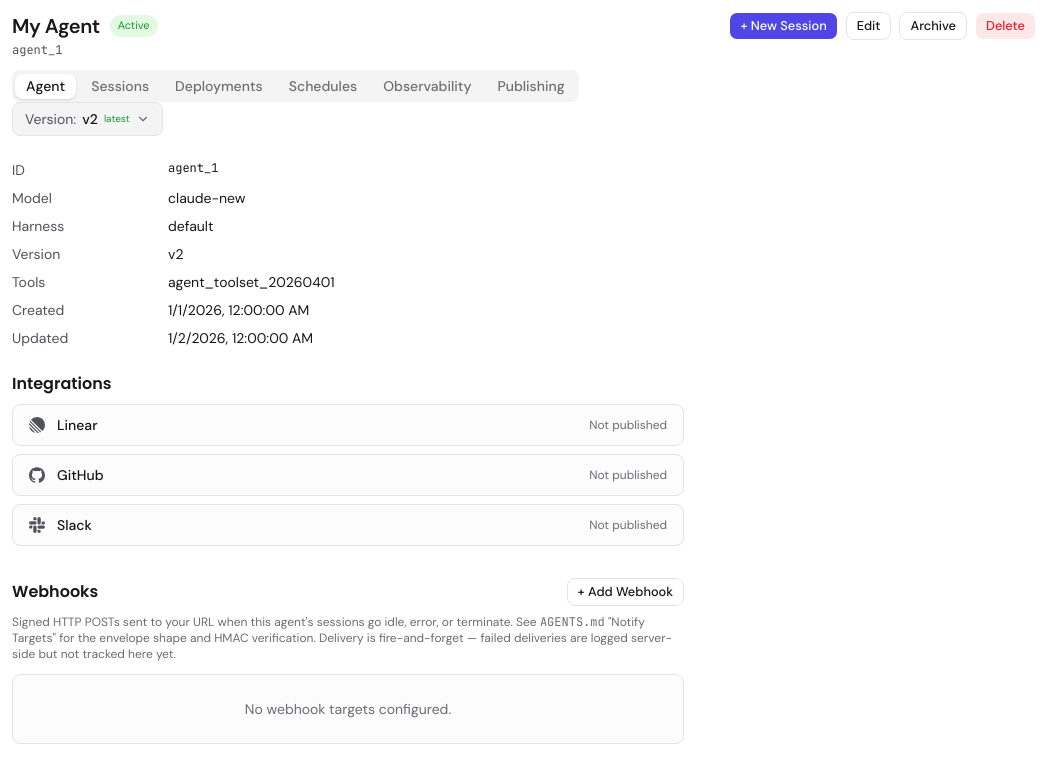
Test: <AgentDetail /> hub layout › navigates to the Sessions tab and shows its empty state
Expected: the heading "My Agent" is shown, [12,12,100,40]
What coordinates should you click on to do the following:
click the link "Sessions"
I would click on:
 (120, 86)
Its box is [91,77,149,95].
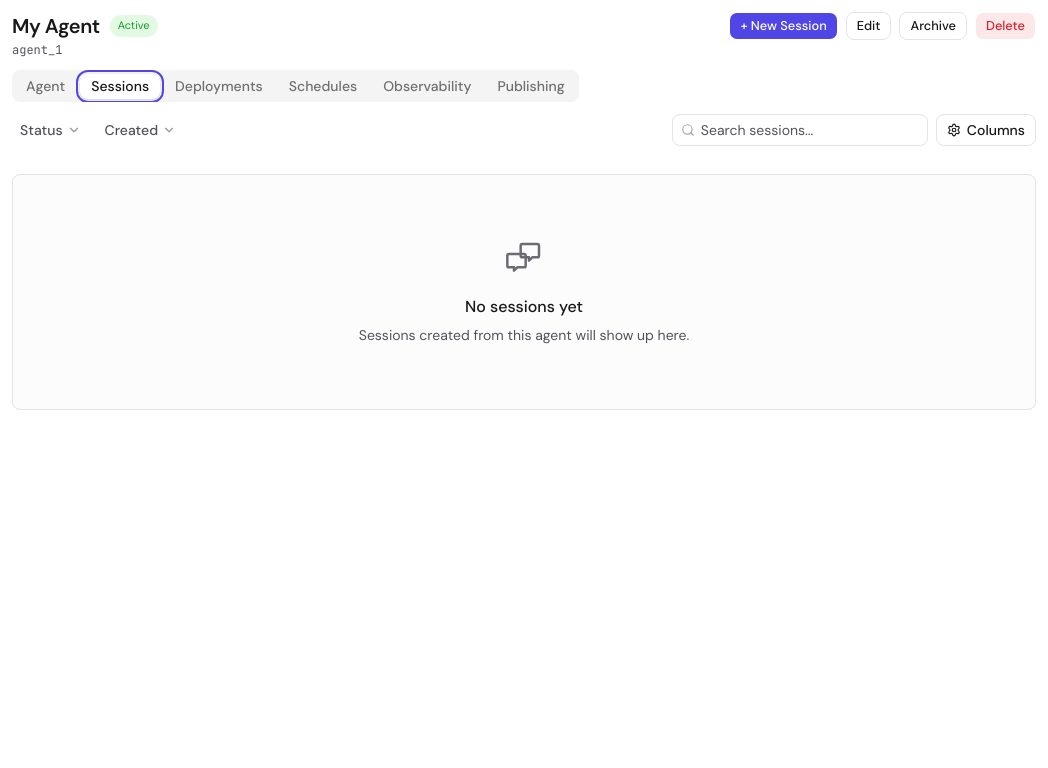
Expected: the text "No sessions yet" is shown, [465,296,583,317]
